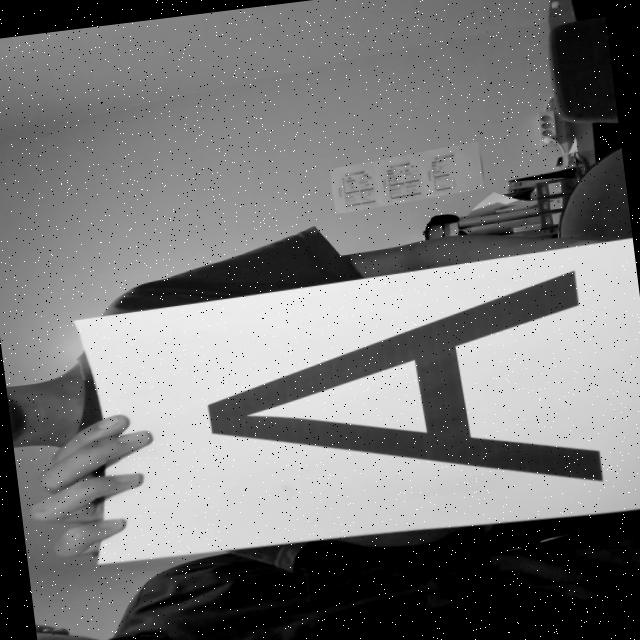a: (175, 251, 640, 537)
